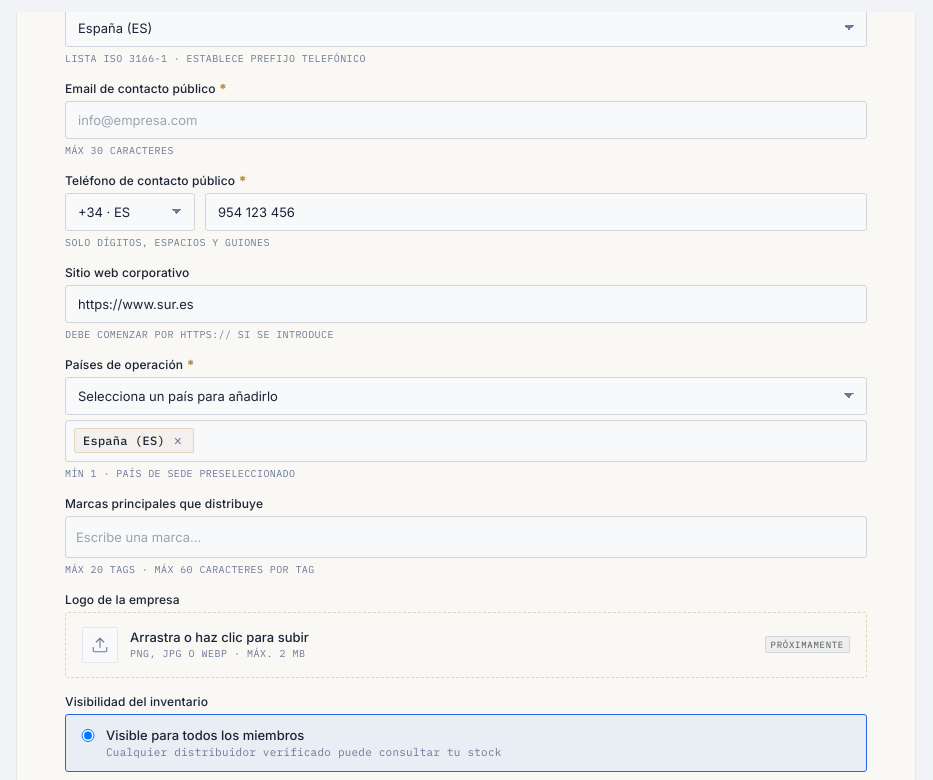
REG-01 · etiquetas de países y de marcas › un país se elige del desplegable, se añade a la caja y el desplegable vuelve a su texto de ayuda
(page scrolled)
Select "Alemania (DE)" in the dropdown labelled "Países de operación" at x=466, y=396, box x1=65 y1=377 x2=867 y2=415
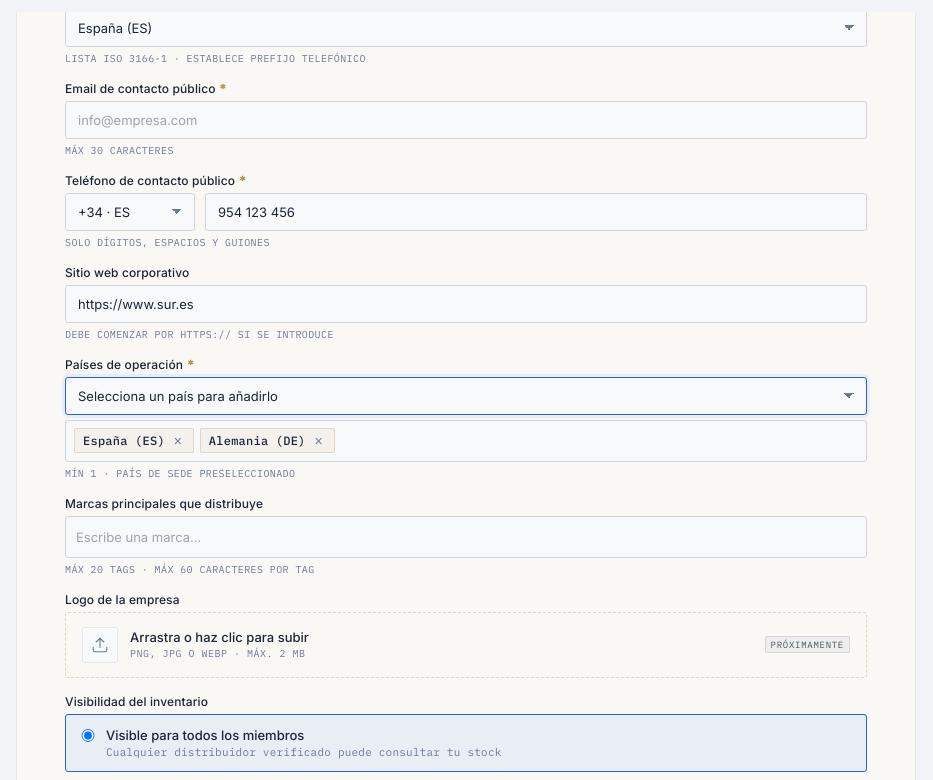
Expected: the text "Alemania (DE)" is shown, x1=209 y1=433 x2=306 y2=448
